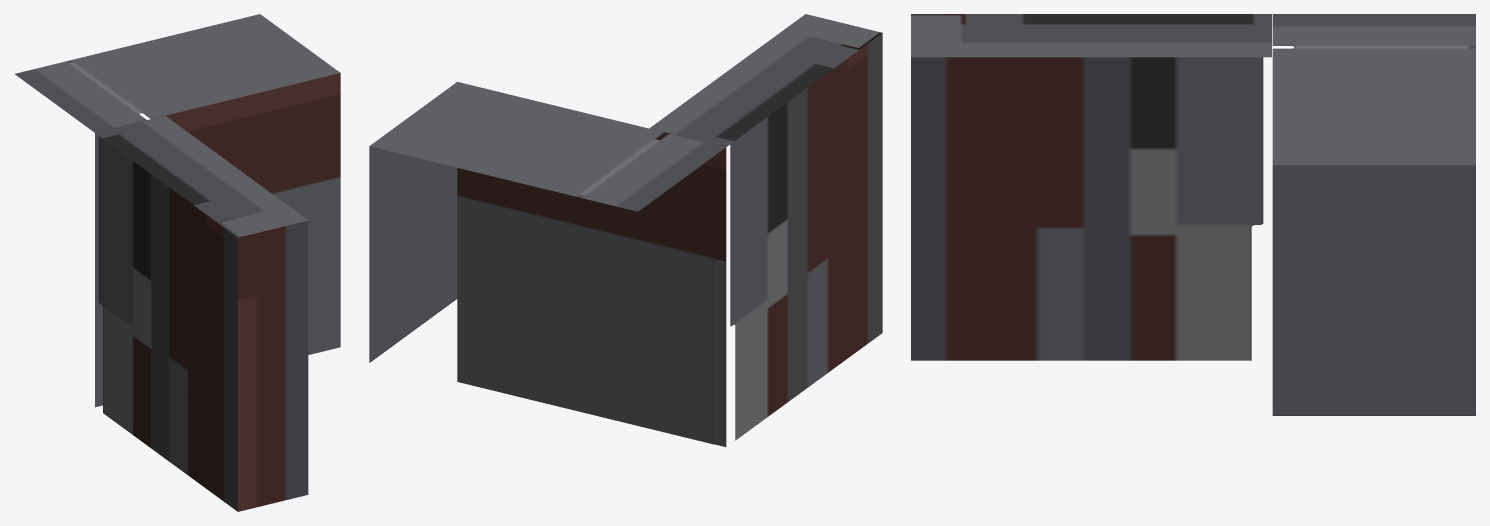
The model's file is section-0.obj.
The picture shows the model from 3 angles, left to right: view 1: azimuth 30°, elevation 25°; view 2: azimuth 150°, elevation 25°; view 3: azimuth 270°, elevation 25°; orthographic projection. The views are drawn at different scales.
Bounding box in the file's own units: 0.763 × 0.814 × 1.2.
